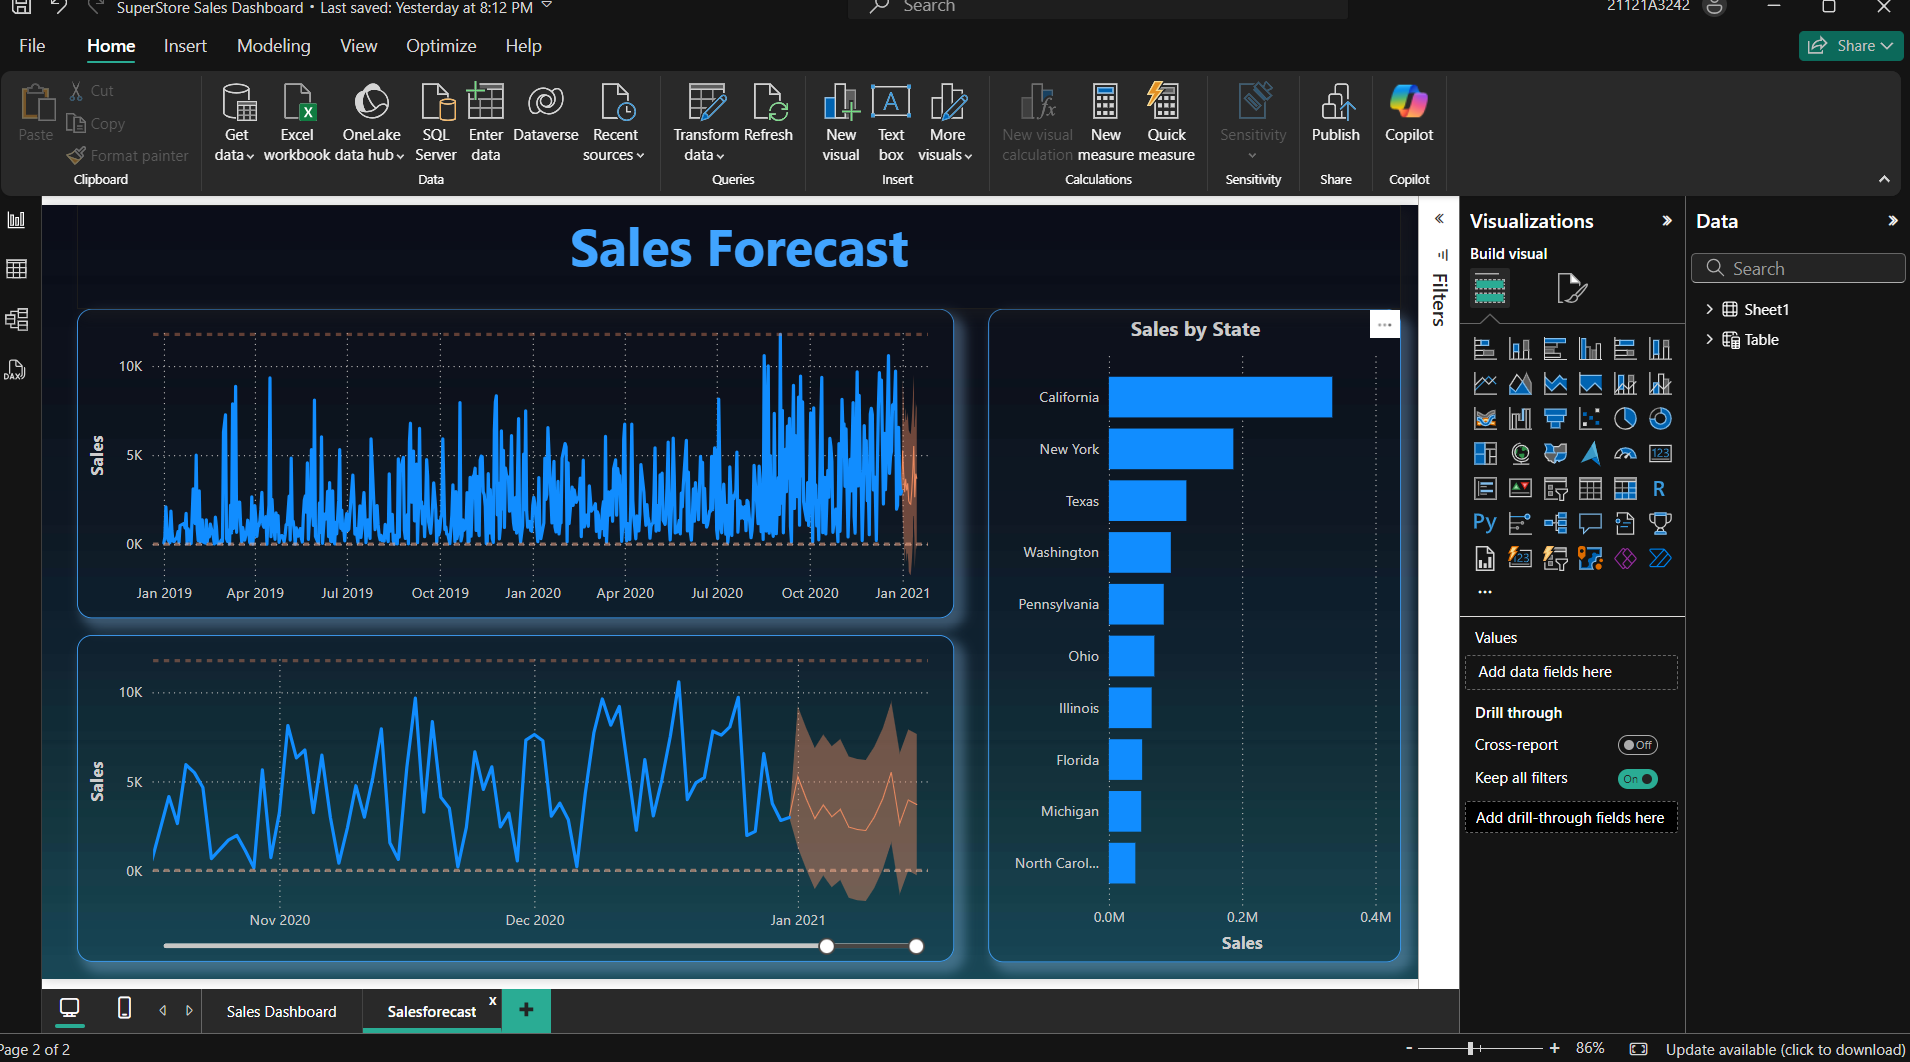

What the dashboard file says about the page in this screenshot:
{"tool":"powerbi","page":{"name":"Salesforecast","canvas":[1280,720],"ordinal":1},"visuals":[{"type":"lineChart","title":"Sales forecast","fields":{"Y":["Sum(Table.Total Sales)"],"Category":["Table.Order Date.Variation.Date Hierarchy.Year","Table.Order Date.Variation.Date Hierarchy.Quarter","Table.Order Date.Variation.Date Hierarchy.Month","Table.Order Date.Variation.Date Hierarchy.Day"]},"box":[32,96,816,288],"z":0},{"type":"lineChart","title":"Sales forecast","fields":{"Y":["Sum(Table.Total Sales)"],"Category":["Table.Order Date.Variation.Date Hierarchy.Year","Table.Order Date.Variation.Date Hierarchy.Quarter","Table.Order Date.Variation.Date Hierarchy.Month","Table.Order Date.Variation.Date Hierarchy.Day"]},"box":[32,400,816,304],"z":1000},{"type":"barChart","title":" Sales by State","fields":{"Y":["Sum(Sheet1.Sales)"],"Category":["Sheet1.State"]},"box":[880,96,384,608],"z":2000},{"type":"textbox","box":[32,0,1232,96],"z":3000}]}

Visuals, with their boxes on the page's 1280x720 design canvas (x1, y1, x2, y2). These are canvas units, not pixel positions in the 1910x1062 screenshot, which may show the page scaled, cropped or inside an application window:
"Sales forecast" lineChart: 32/96/848/384
"Sales forecast" lineChart: 32/400/848/704
" Sales by State" barChart: 880/96/1264/704
textbox: 32/0/1264/96
